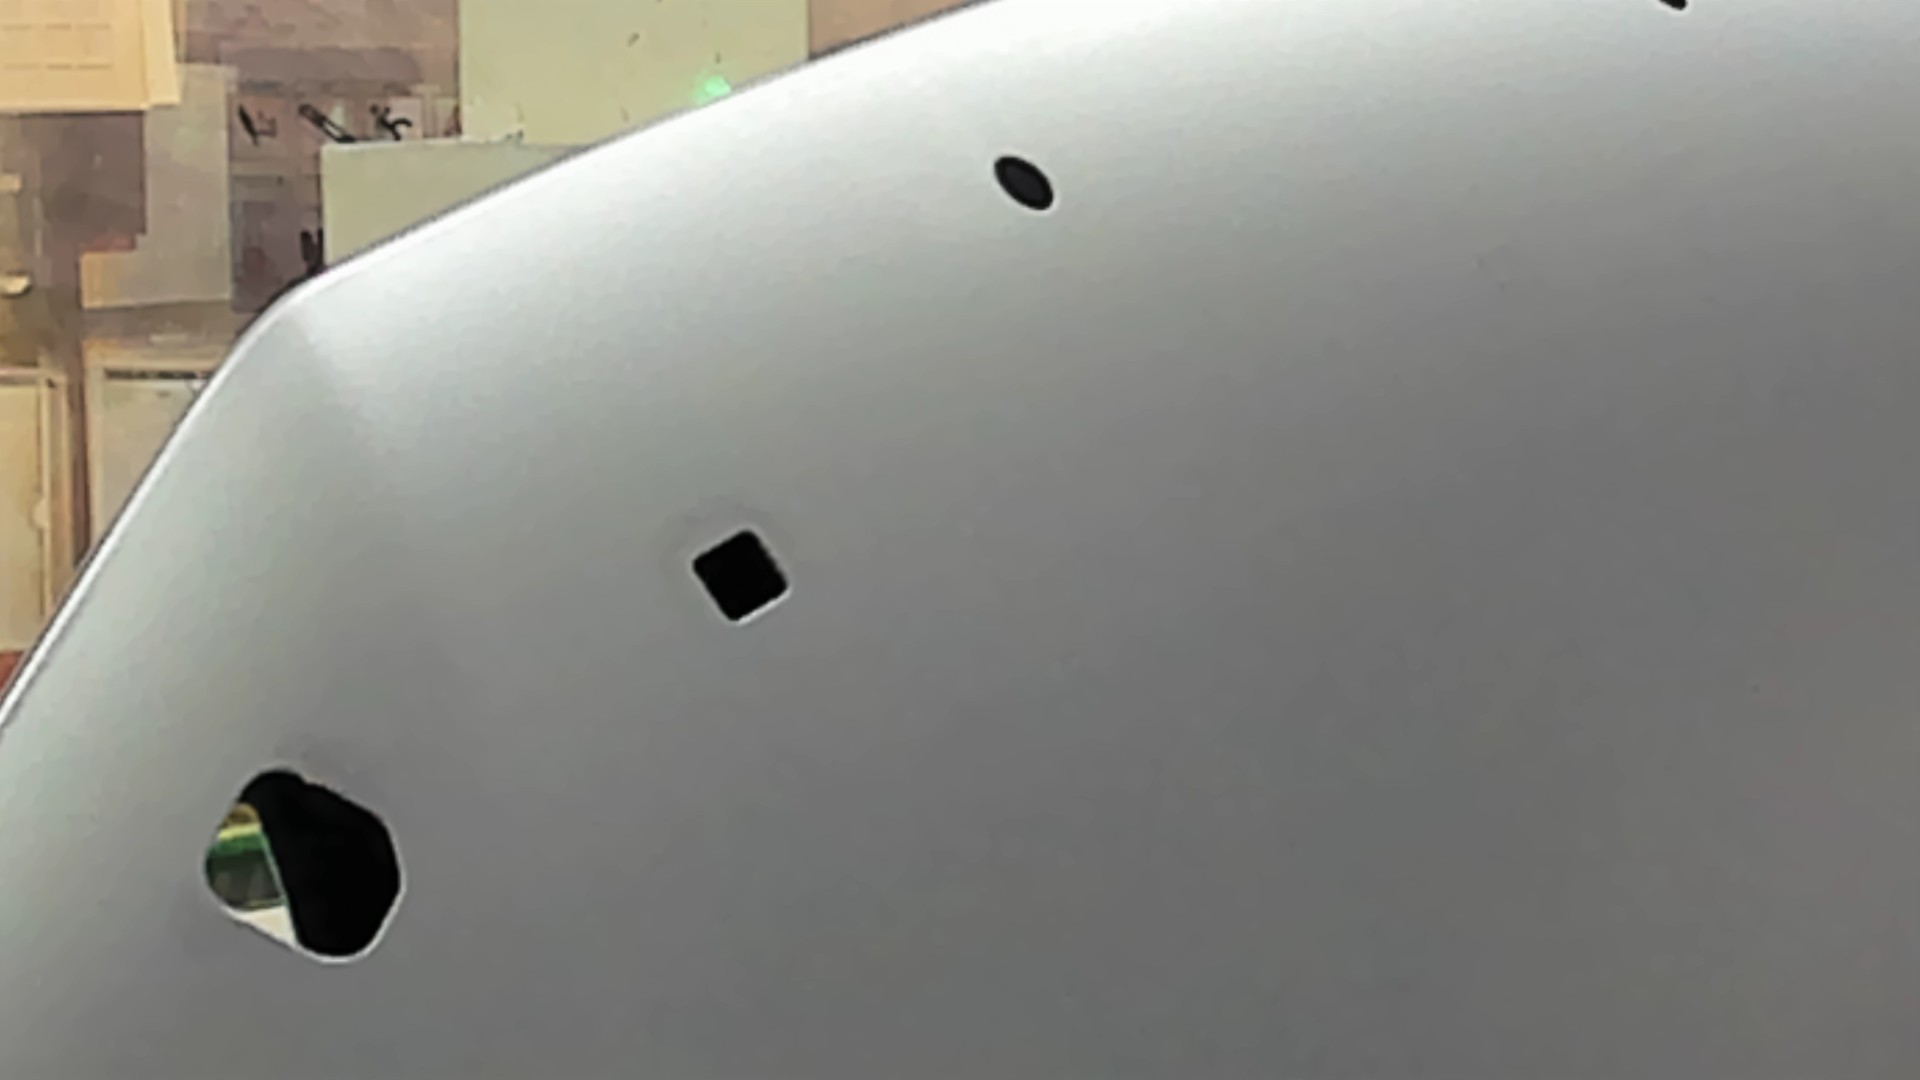chico: (986, 135, 1065, 227)
grande: (177, 756, 415, 976)
mediano: (673, 509, 807, 638)
